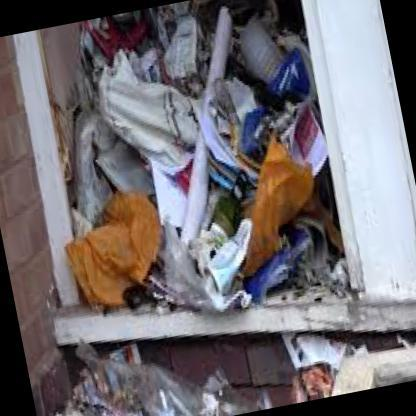Garbage: (106, 154, 298, 334), (56, 190, 170, 314), (199, 37, 302, 144), (41, 334, 162, 415), (270, 334, 350, 403), (279, 195, 325, 270)
